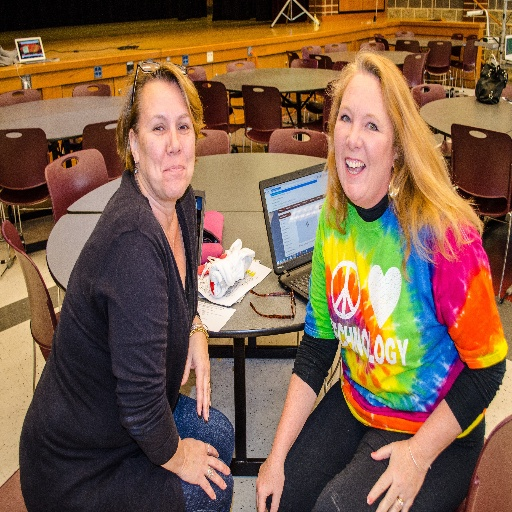hand: (365, 440, 425, 511), (176, 436, 231, 500), (180, 331, 211, 422), (254, 454, 283, 511)
